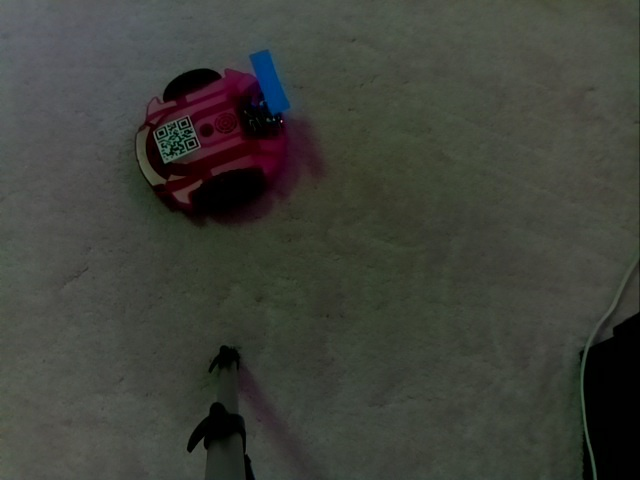chassis: (127, 48, 294, 219)
qr: (148, 115, 201, 162)
